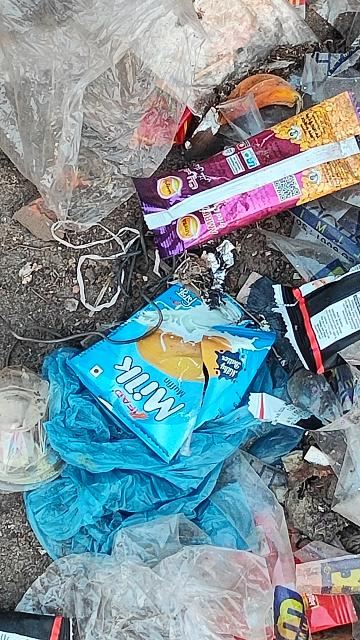polythene: (74, 270, 286, 462)
